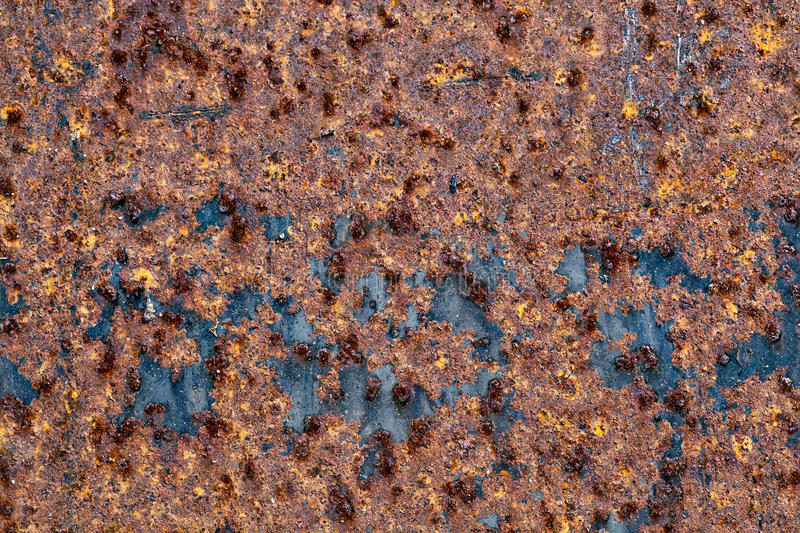rust: (1, 1, 798, 533)
